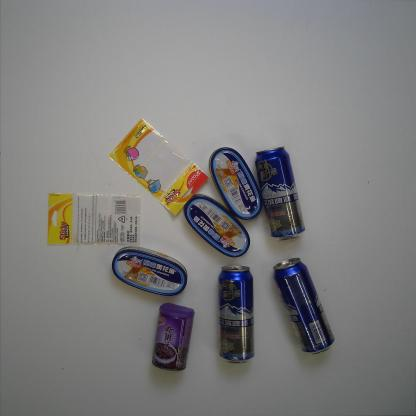Alcohol: (271, 255, 337, 356), (254, 143, 307, 243), (215, 262, 256, 366)
Canned Food: (181, 193, 251, 259), (208, 145, 264, 222), (111, 244, 189, 299), (150, 302, 195, 373)
Stationery: (109, 117, 210, 217), (44, 188, 144, 248)
